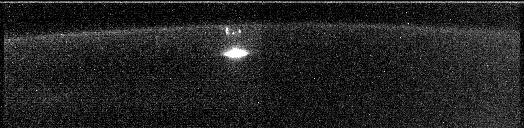positive: (221, 27, 244, 38)
